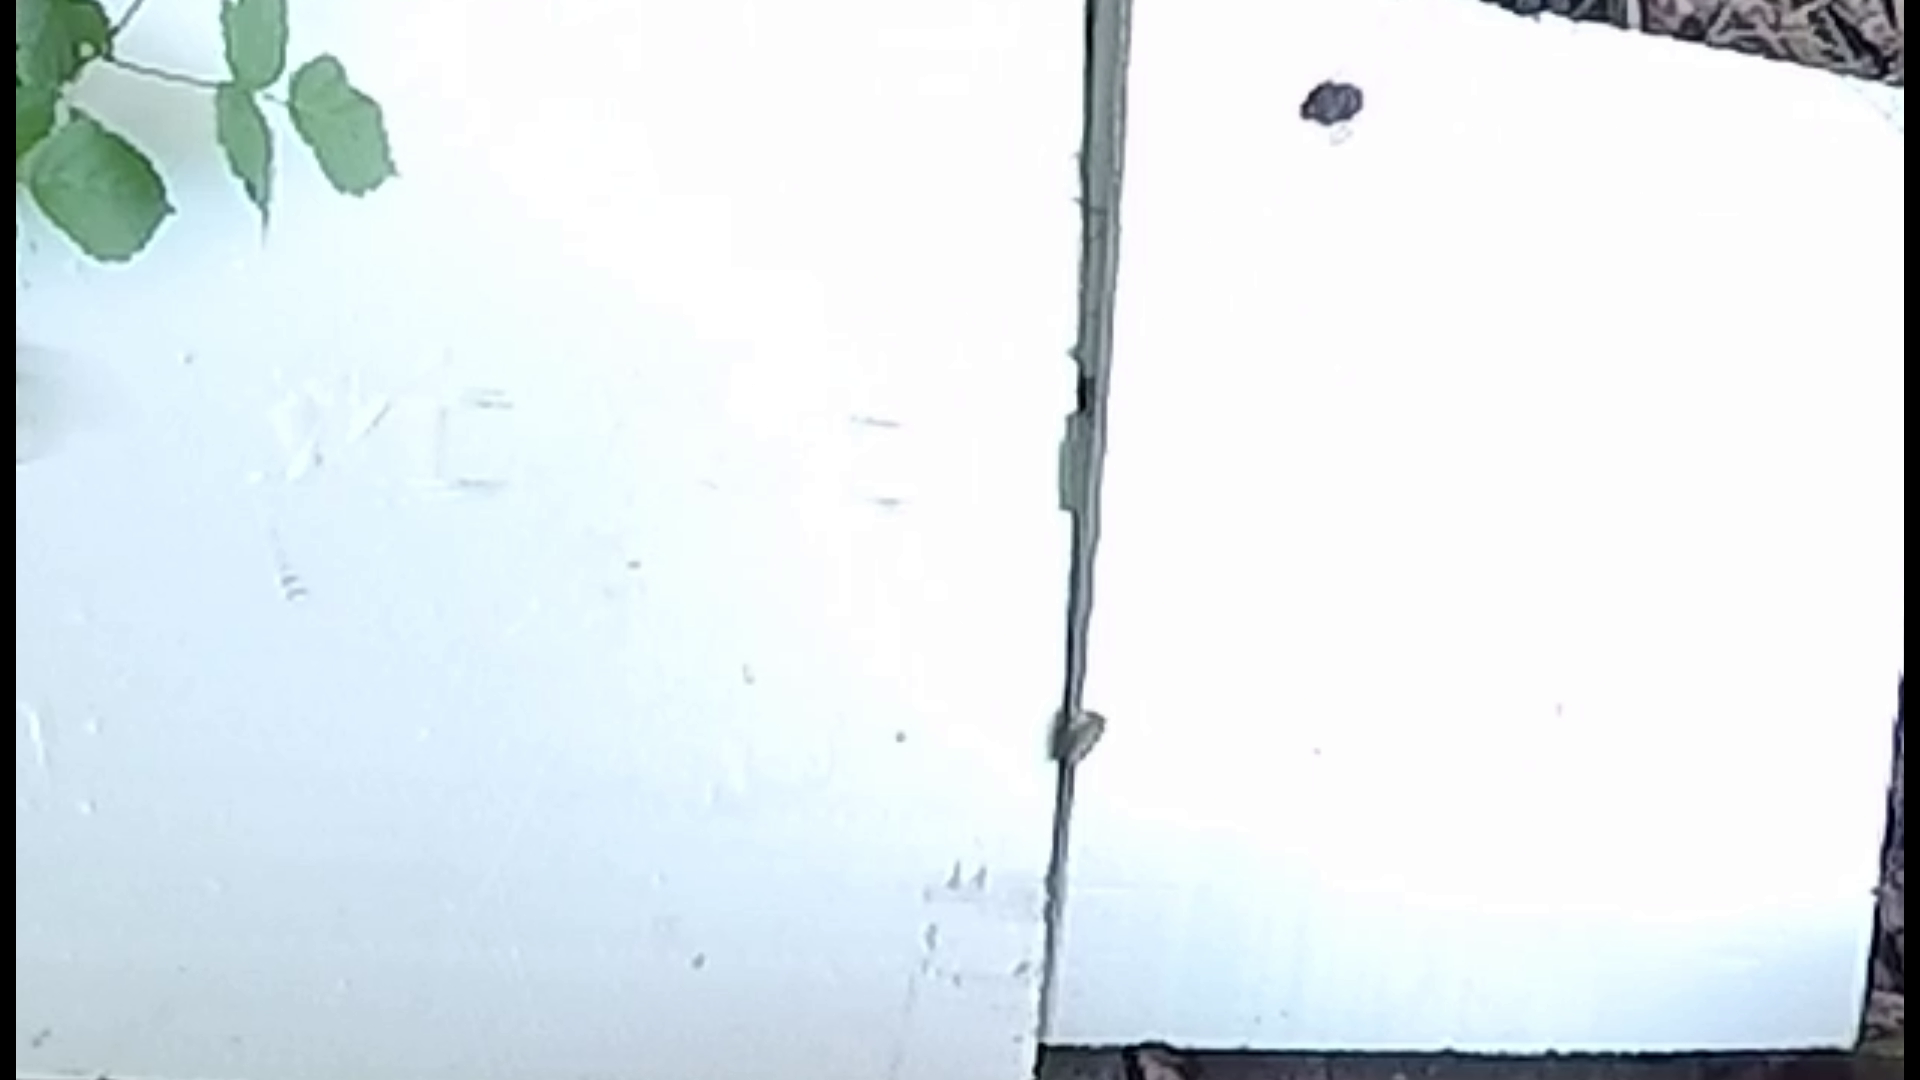Asian_hornets: (1288, 42, 1377, 148)
